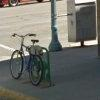Bicycle: (8, 25, 49, 90)
